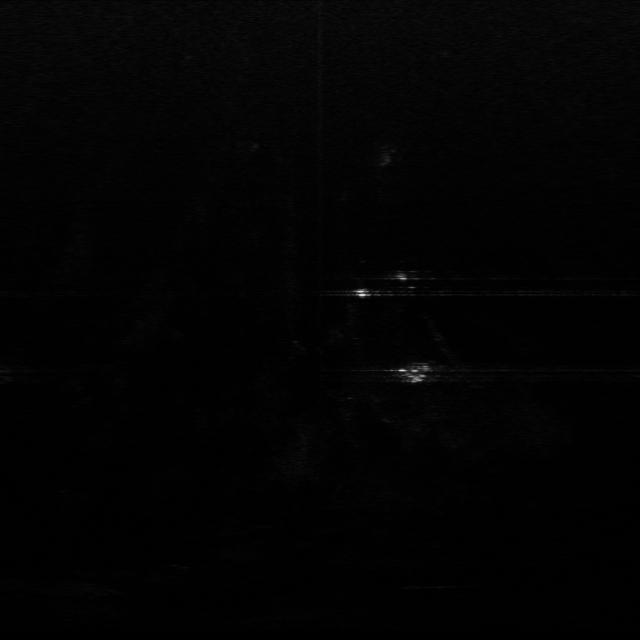rov: (391, 362, 433, 386)
